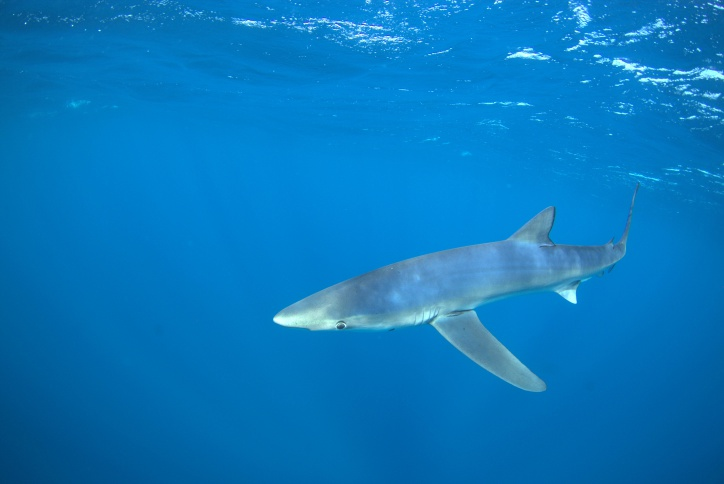Azul: (232, 171, 648, 417)
